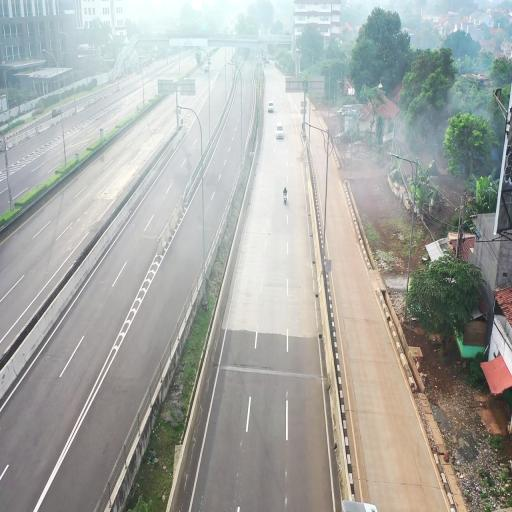vehicle: (275, 123, 285, 140)
